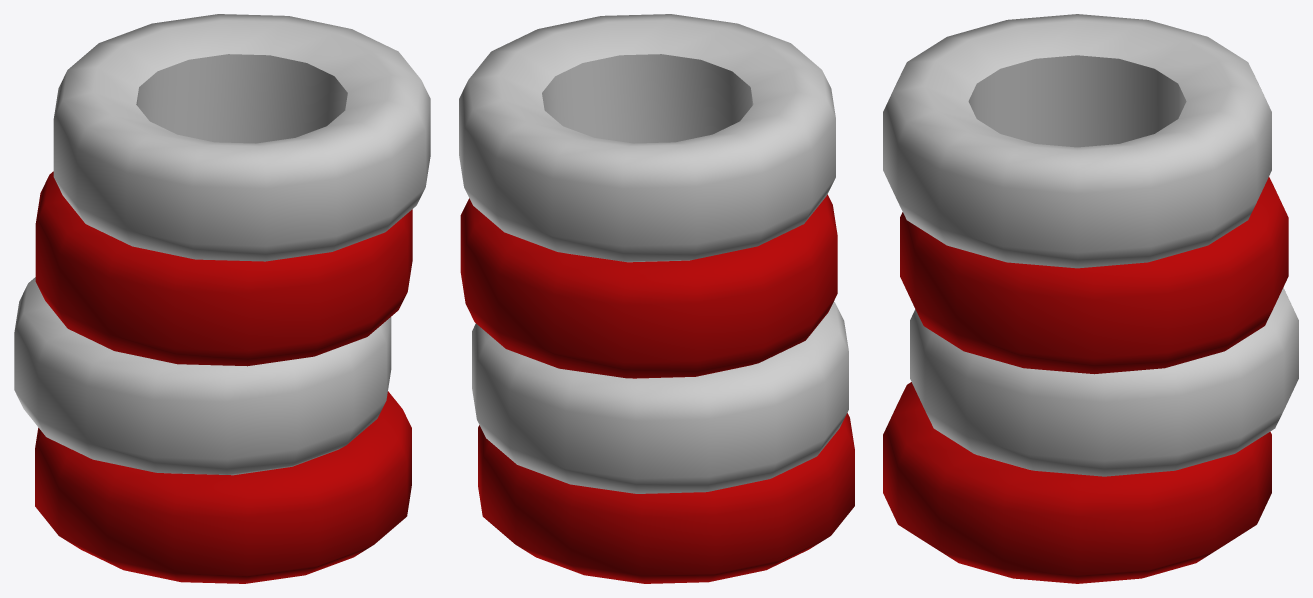
The model's file is ETC0510023.fbx.
3 renders of one model, left to right at view 1: azimuth 30°, elevation 25°; view 2: azimuth 150°, elevation 25°; view 3: azimuth 270°, elevation 25°, orthographic. The views are drawn at different scales.
Visible parts, largest first — view 1: smETC0510023; view 2: smETC0510023; view 3: smETC0510023.
Boxes of the visible parts, x1,y1,x2,y2 form: smETC0510023: [14, 14, 430, 583]; smETC0510023: [459, 14, 854, 583]; smETC0510023: [883, 14, 1298, 583].
Bounding box in the file's own units: 77.7 × 89.19 × 77.
1 material, 1 textured.
